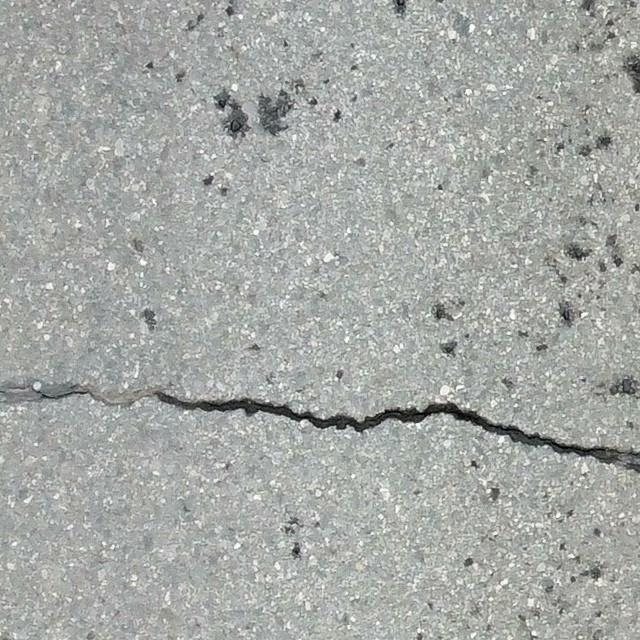TransverseCrack: (1, 383, 640, 473)
